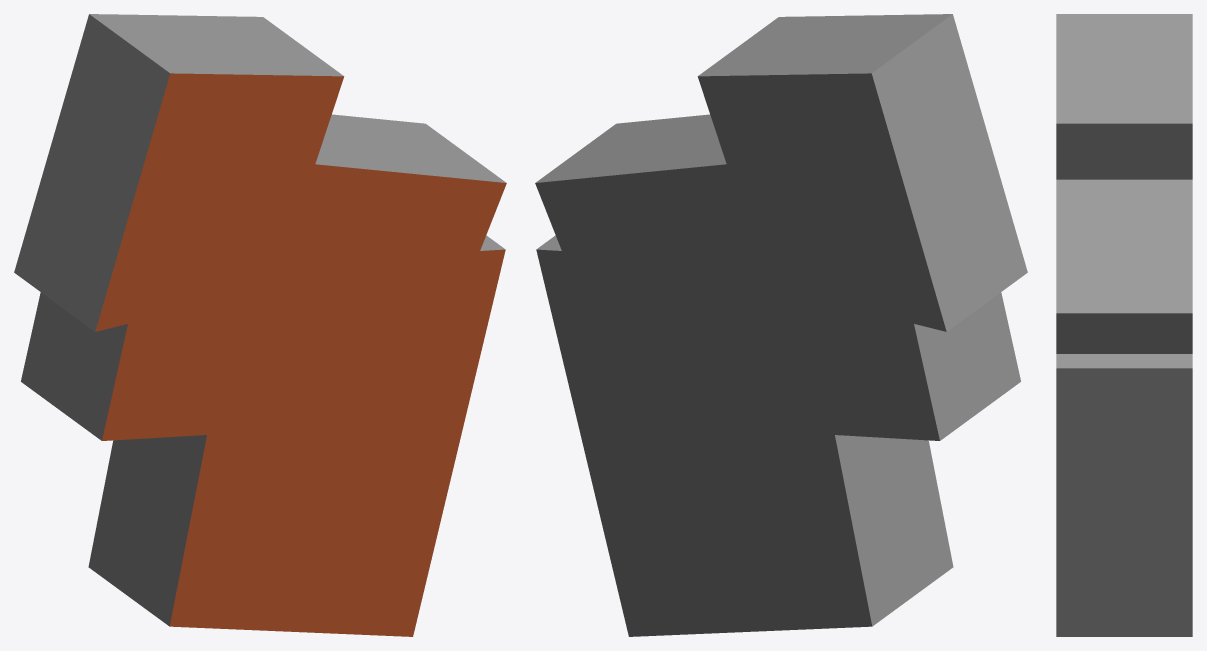
Rendered from construction_1045_assumed_A_Casa_h6m.obj.
3 renders of one model, left to right at view 1: azimuth 30°, elevation 25°; view 2: azimuth 150°, elevation 25°; view 3: azimuth 270°, elevation 25°, orthographic. The views are drawn at different scales.
Visible parts, largest first — view 1: construction_1045_assumed_A_Casa; view 2: construction_1045_assumed_A_Casa; view 3: construction_1045_assumed_A_Casa.
Boxes of the visible parts, box(x1,y1,x2,y2) form: construction_1045_assumed_A_Casa: box(14, 14, 506, 636); construction_1045_assumed_A_Casa: box(535, 14, 1027, 636); construction_1045_assumed_A_Casa: box(1056, 14, 1192, 636).
Bounding box in the file's own units: 17.56 × 25.39 × 6.
